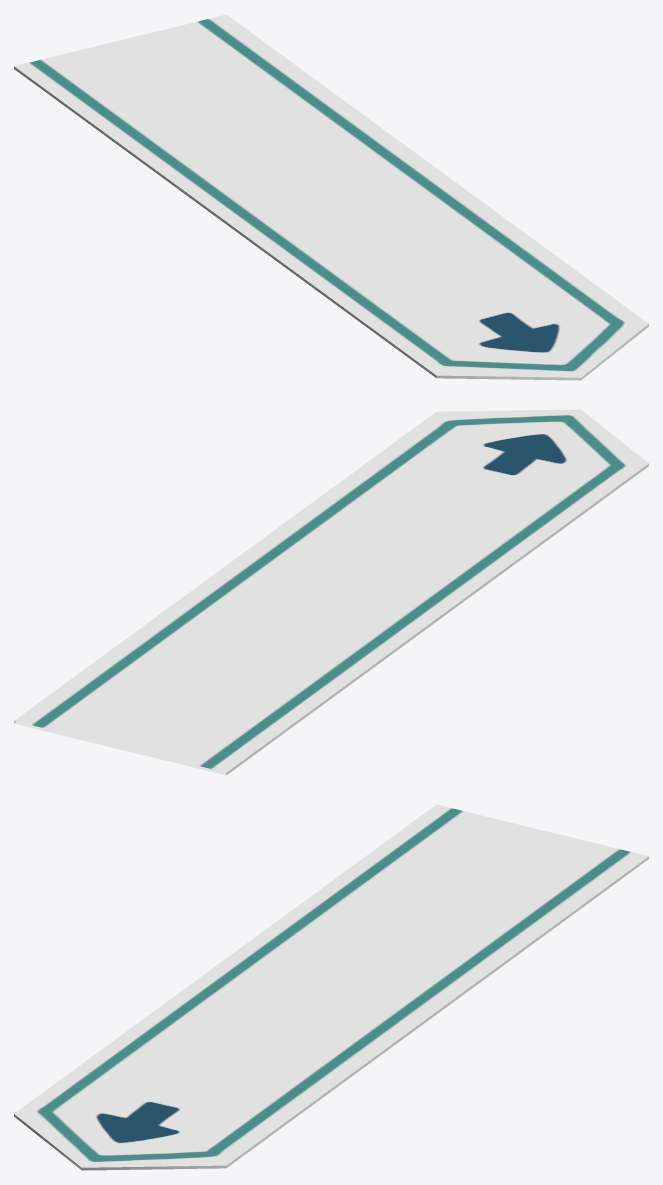
Rendered from pull.FBX.
3 renders of one model, top to bottom at view 1: azimuth 30°, elevation 25°; view 2: azimuth 150°, elevation 25°; view 3: azimuth 330°, elevation 25°, orthographic.
Parts seen in each view (by area): view 1: Turn002; view 2: Turn002; view 3: Turn002.
Part boxes in pixels (x1,y1,x2,y2): Turn002: [14, 14, 648, 380]; Turn002: [14, 409, 648, 775]; Turn002: [14, 804, 648, 1170].
Size of the model in its own units: 80 by 1 by 301.
